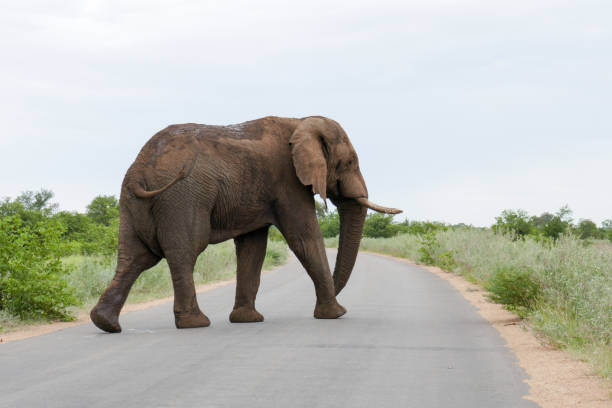africanelephant: (288, 127, 387, 226)
